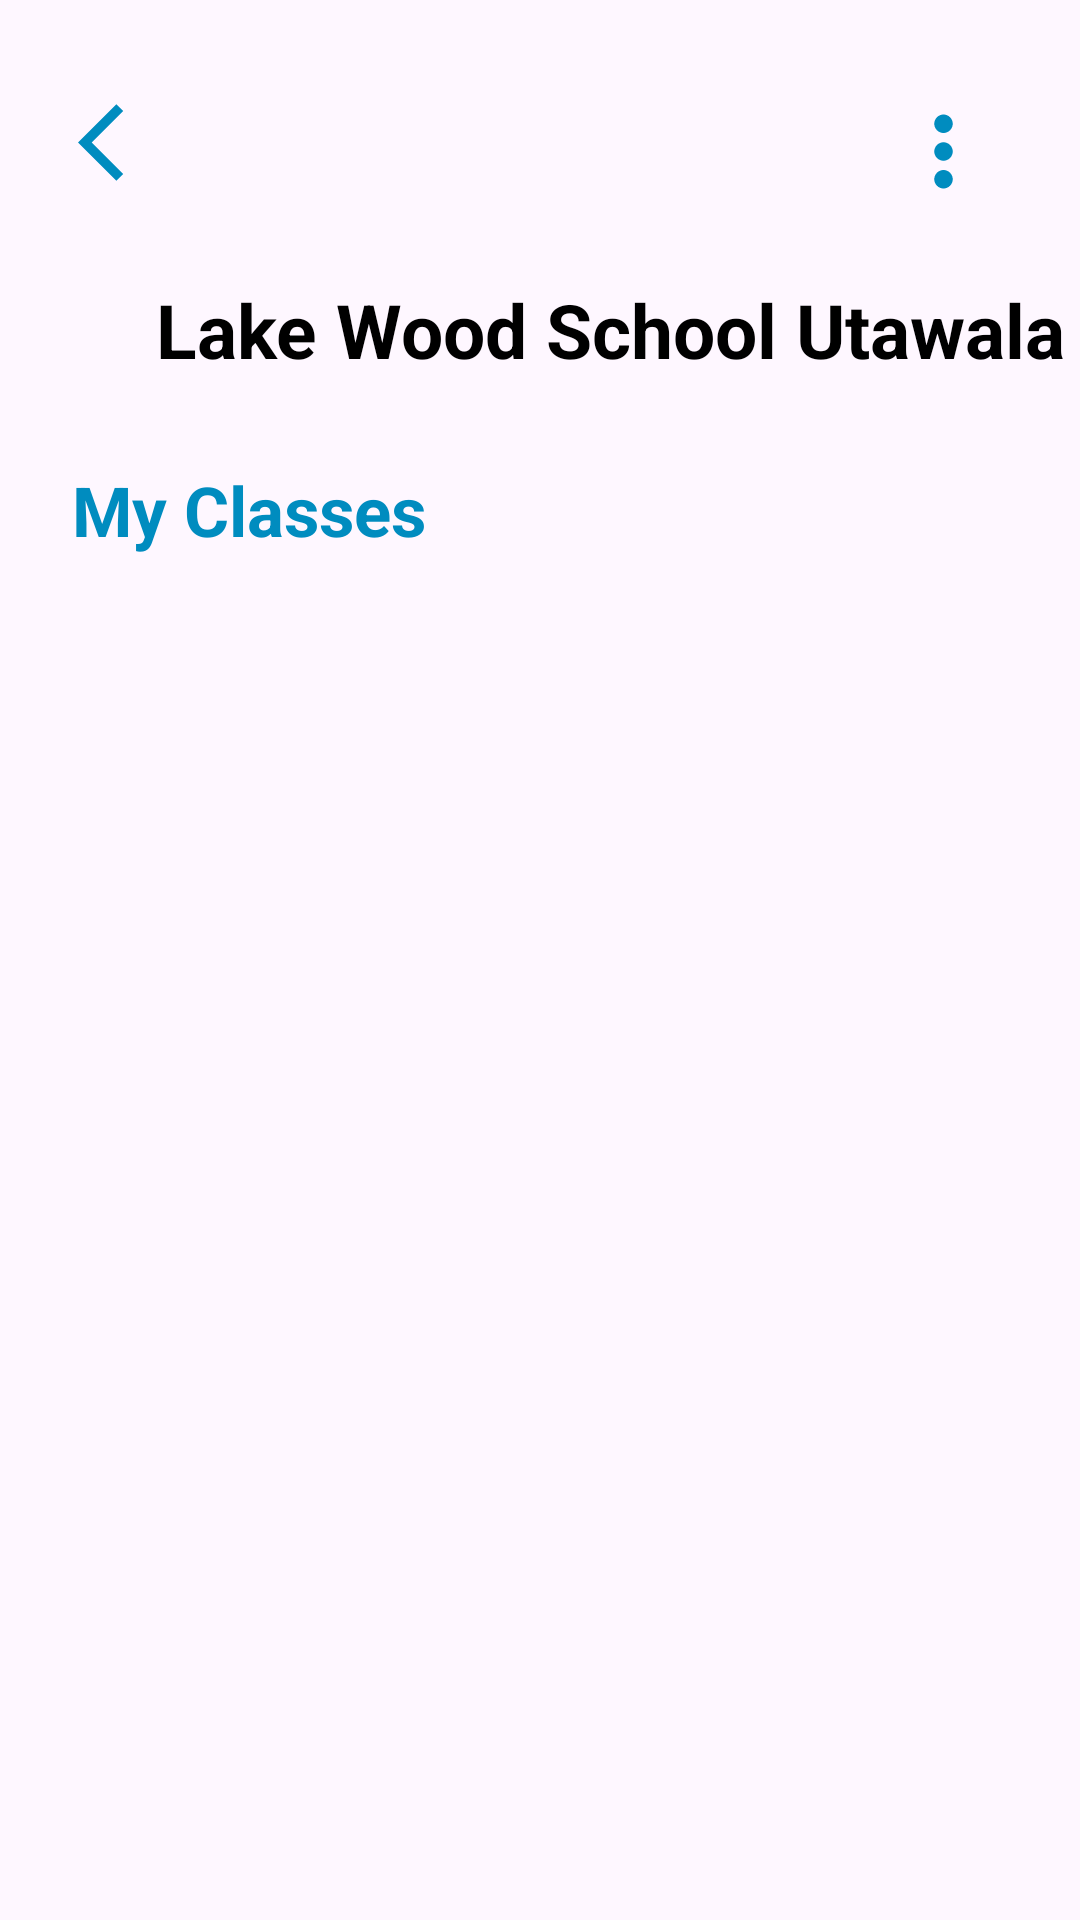

Point at icon controls on the screen. Image size 1080*1920, points as [x,y].
backarrow: [100,142]
dots: [943,151]
